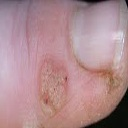Wart: (36, 57, 70, 111), (102, 68, 124, 99)
